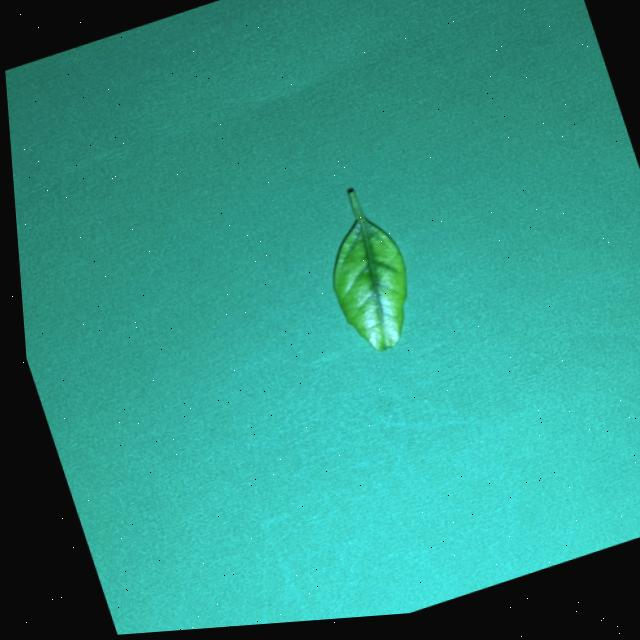greening: (334, 189, 406, 350)
